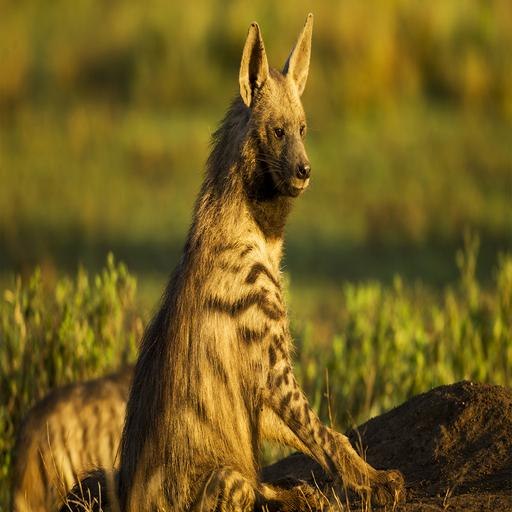Hyena: (114, 22, 398, 510), (5, 311, 277, 510)
